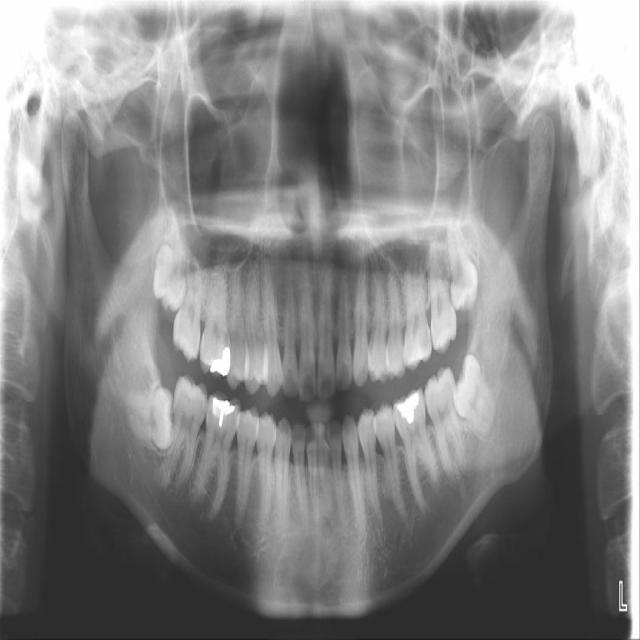3M ESPE Implant: (153, 238, 186, 311)
52: (196, 389, 246, 444), (195, 327, 236, 382), (390, 387, 430, 442)
73: (598, 568, 609, 584)
BioHorizons Implant: (426, 241, 459, 354)
BioLife Implant: (446, 222, 479, 313)
Biomet 3i Implant: (436, 350, 507, 445)
Blue Sky Bio Implant: (419, 363, 470, 489)
Caries: (171, 246, 206, 364)
Implant: (157, 371, 213, 501)
Keystone Dental Implant: (123, 385, 177, 453)
